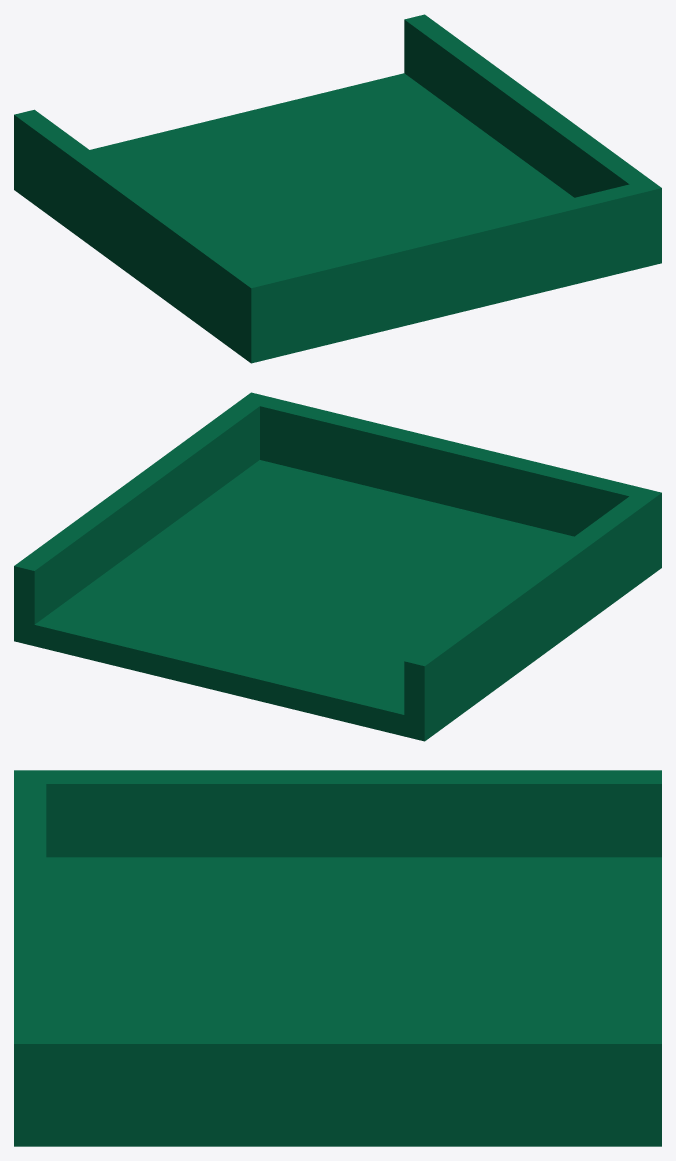
The model's file is GreenRoof_3Edges.glb.
3 views of the same model, one above another, from view 1: azimuth 30°, elevation 25°; view 2: azimuth 150°, elevation 25°; view 3: azimuth 270°, elevation 25° (orthographic). The views are drawn at different scales.
Parts seen in each view (by area): view 1: roof_flat_3Edges_green; view 2: roof_flat_3Edges_green; view 3: roof_flat_3Edges_green.
Boxes of the visible parts, left/top/right/bottom form: roof_flat_3Edges_green: left=14, top=14, right=661, bottom=363; roof_flat_3Edges_green: left=14, top=392, right=661, bottom=741; roof_flat_3Edges_green: left=14, top=770, right=661, bottom=1146.
Size of what is drawn, in the model's own units: 4 by 0.7 by 4.
Materials: 1 (1 with a texture image).
